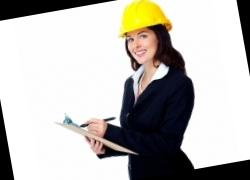helmet: (109, 0, 172, 38)
